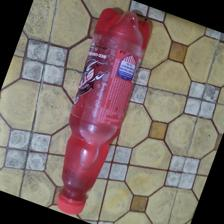Sting: (57, 6, 154, 221)
